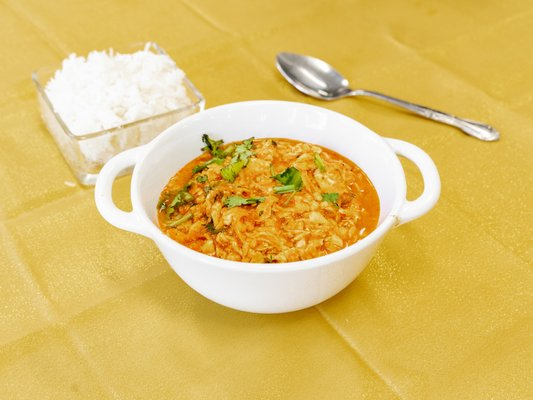salad: (276, 51, 499, 142)
sushi: (92, 101, 414, 315), (31, 42, 205, 189)
